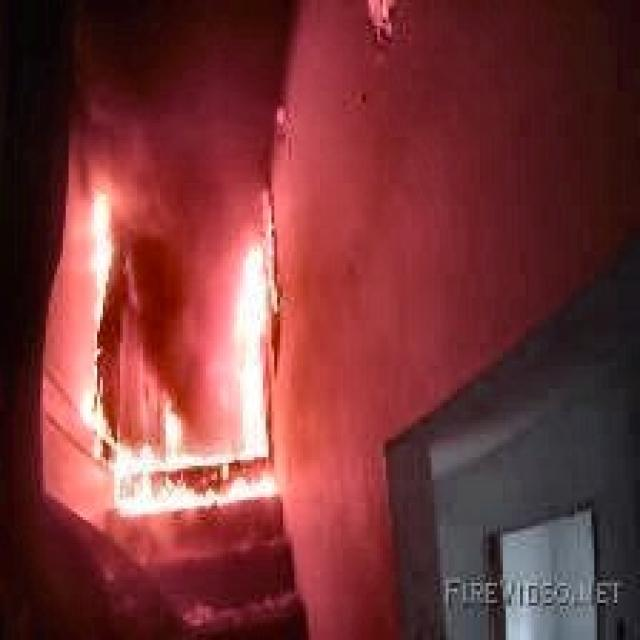fire: (67, 182, 316, 522)
